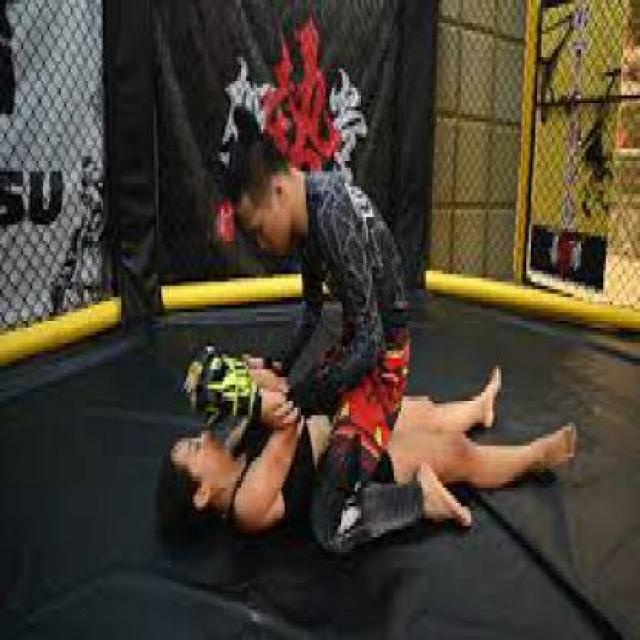fall: (131, 346, 595, 537)
